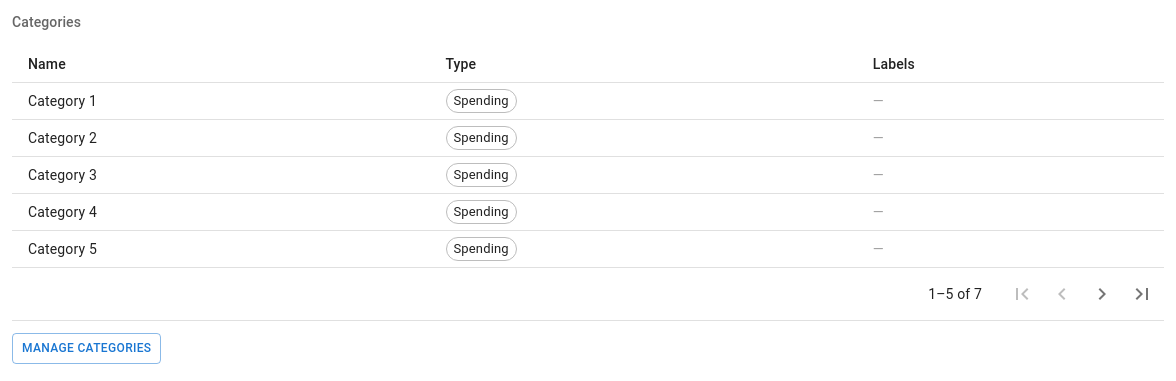
Test case: HouseholdCategoriesSection pagination › disables previous/first on the first page and next/last on the last page
Expected: the text "Category 1" is shown, x1=12 y1=82 x2=430 y2=120
Expected: the button named "previous page" is disabled, x1=1042 y1=274 x2=1082 y2=314
What coordinates should you click on to do the following:
click the button named "last page"
I would click on:
 (1142, 294)
Its box is x1=1122 y1=274 x2=1162 y2=314.
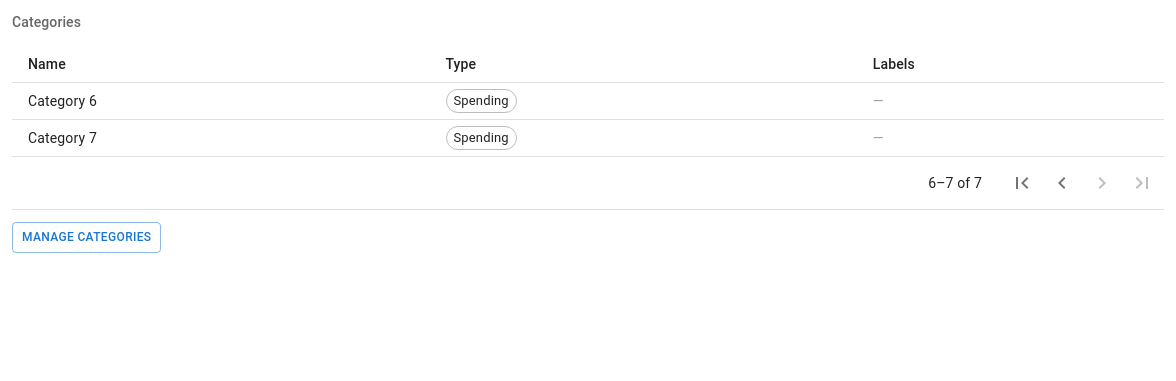
Now the button named "next page" is disabled, box x1=1082 y1=163 x2=1122 y2=203
Now the button named "last page" is disabled, box x1=1122 y1=163 x2=1162 y2=203
